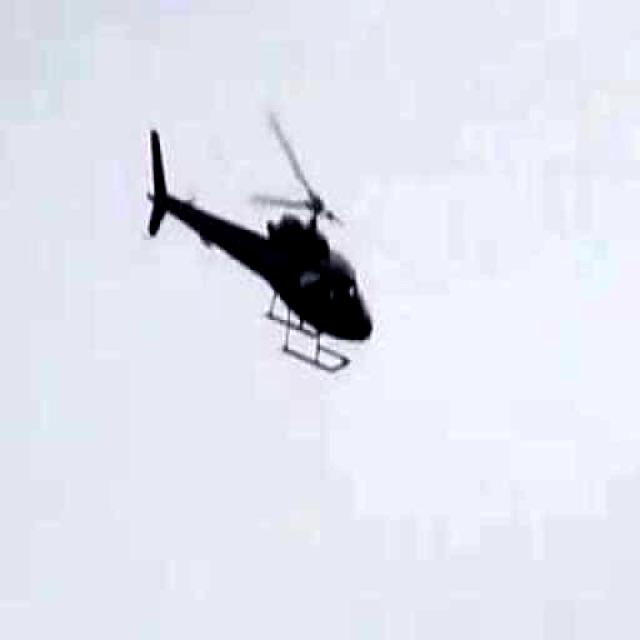drone: (138, 102, 380, 410)
